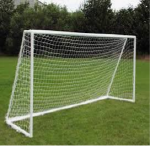goals: (6, 29, 136, 138)
